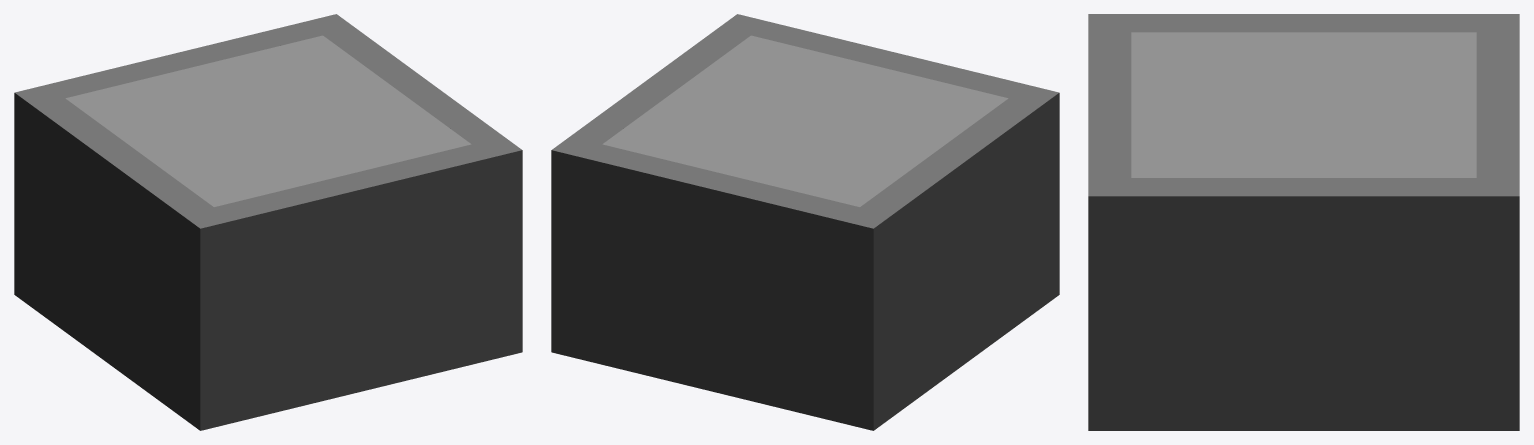
The model's file is dispenser.fbx.
3 renders of one model, left to right at view 1: azimuth 30°, elevation 25°; view 2: azimuth 150°, elevation 25°; view 3: azimuth 270°, elevation 25°, orthographic. The views are drawn at different scales.
Parts seen in each view (by area): view 1: dispenser_frame, dispenser_panel.R, dispenser_panel.L; view 2: dispenser_frame, dispenser_panel.L, dispenser_panel.R; view 3: dispenser_frame, dispenser_panel.R, dispenser_panel.L.
Part boxes in pixels (<box>): dispenser_frame: <box>14,14,522,430</box>; dispenser_panel.R: <box>65,35,396,152</box>; dispenser_panel.L: <box>140,90,471,206</box>; dispenser_frame: <box>551,14,1059,430</box>; dispenser_panel.L: <box>677,35,1008,152</box>; dispenser_panel.R: <box>602,90,933,206</box>; dispenser_frame: <box>1088,14,1519,430</box>; dispenser_panel.R: <box>1304,32,1476,177</box>; dispenser_panel.L: <box>1131,32,1303,177</box>.
Size of the model in its own units: 500 by 300 by 500.
